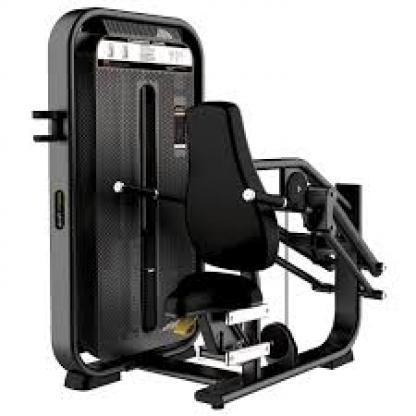seated dip machine: (33, 8, 388, 409)
